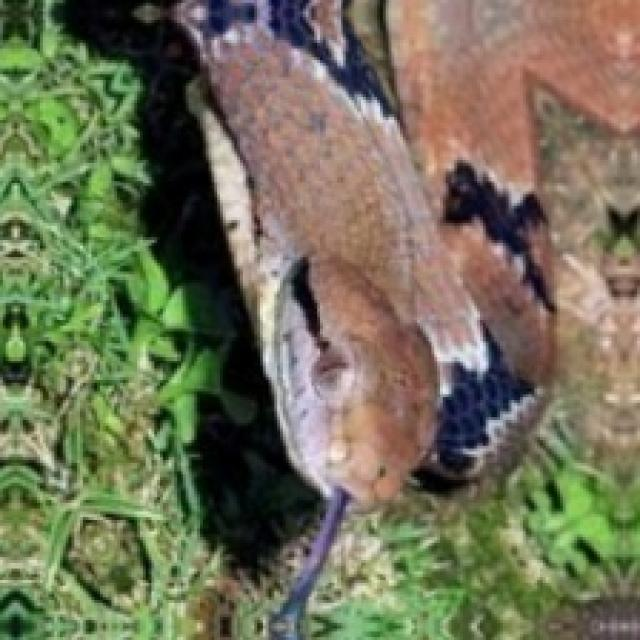dog-toothed cat snake: (66, 0, 551, 637)
